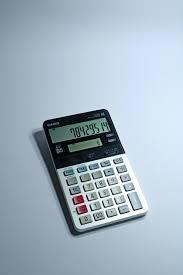Calculator: (37, 101, 157, 246)
